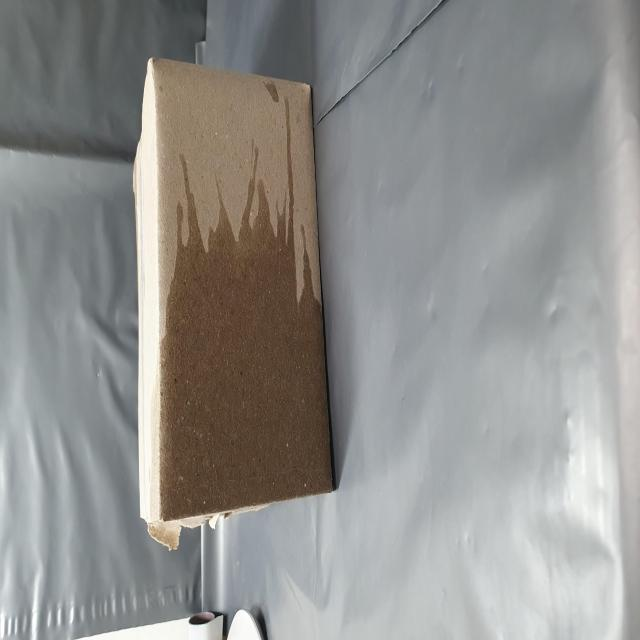wet: (69, 258, 327, 590)
